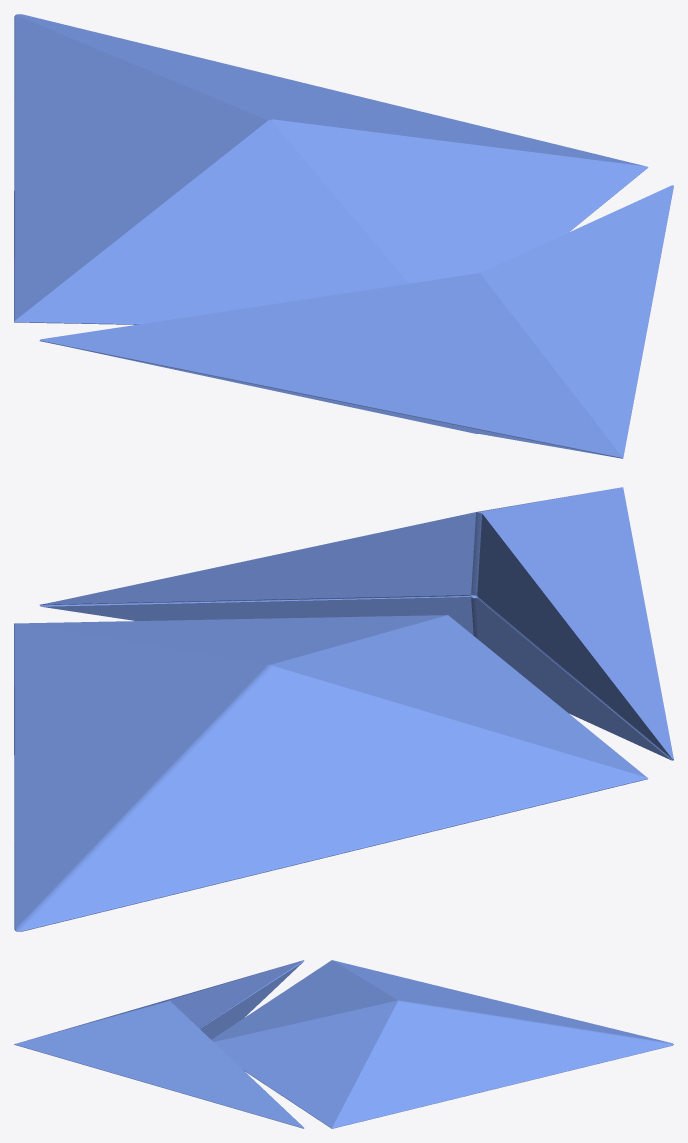
The model's file is eth.glb.
3 views of the same model, one above another, from view 1: azimuth 30°, elevation 25°; view 2: azimuth 150°, elevation 25°; view 3: azimuth 270°, elevation 25° (orthographic). The views are drawn at different scales.
Visible parts, largest first — view 1: Plane, Plane.001; view 2: Plane, Plane.001; view 3: Plane, Plane.001.
Boxes of the visible parts, x1,y1,x2,y2 form: Plane: (14,14,648,324); Plane.001: (39,185,673,458); Plane: (14,615,648,931); Plane.001: (39,487,673,760); Plane: (211,960,673,1128); Plane.001: (14,960,304,1128).
Size of the model in its own units: 1.99 by 0.4829 by 3.3.
